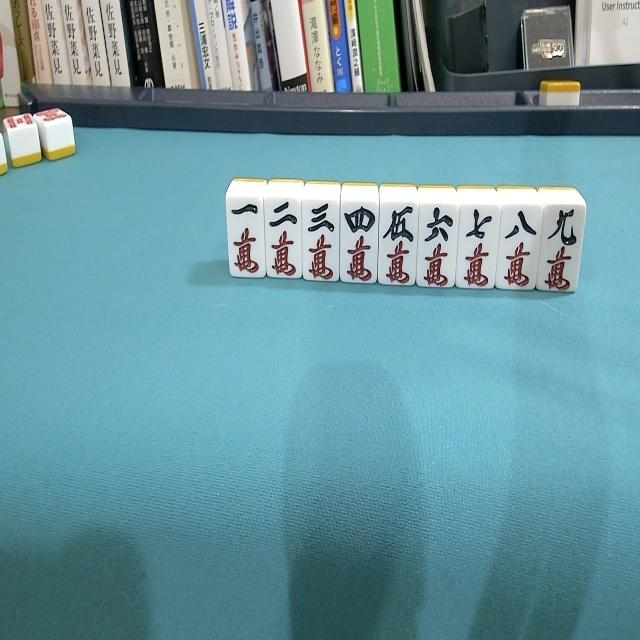1_man: (224, 179, 268, 289)
2_man: (262, 178, 307, 290)
3_man: (300, 180, 344, 289)
4_man: (337, 180, 381, 292)
5_man: (375, 182, 421, 296)
6_man: (413, 184, 459, 298)
7_man: (454, 185, 502, 300)
8_man: (493, 185, 541, 302)
9_man: (534, 186, 588, 304)
